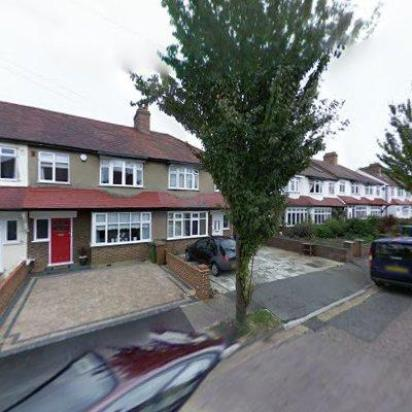moving-car: (0, 326, 232, 412)
stationary-car-offstreet: (182, 233, 234, 277)
stationary-car-onstreet: (366, 236, 410, 292)
